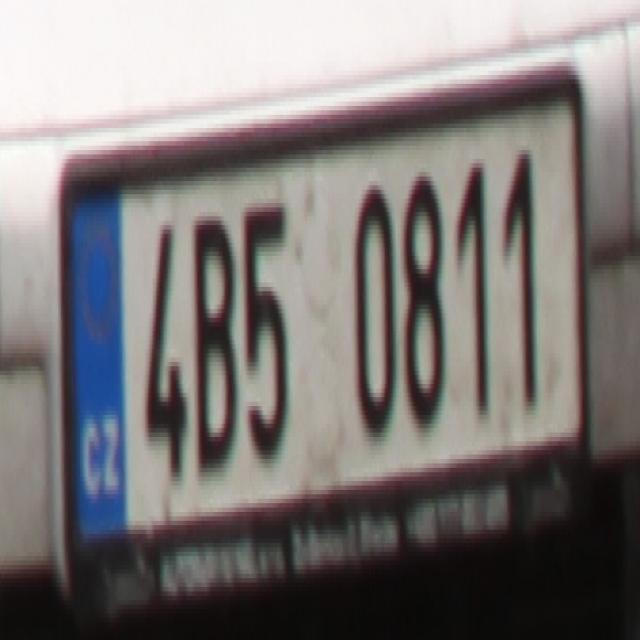0: (348, 181, 396, 437)
1: (451, 154, 495, 420), (502, 141, 541, 415)
4: (141, 208, 190, 477)
5: (240, 194, 289, 477)
8: (400, 159, 445, 441)
B: (192, 185, 236, 481)
